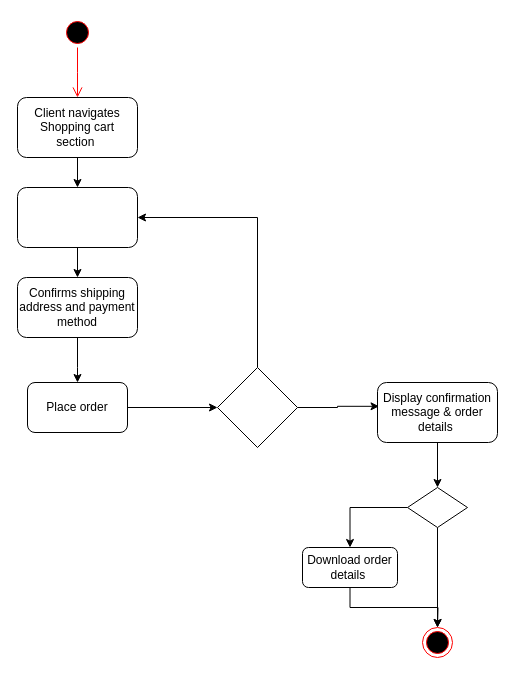
This 515x675 diagram has some shape labels left out. The shapes that lost their labels are listed below. From the top down, each one's box as (x1, y1, x2, y2) in pixels, then its label:
(16, 186, 138, 248): Click "Checkout"
(216, 366, 298, 448): Order placed successfully?
